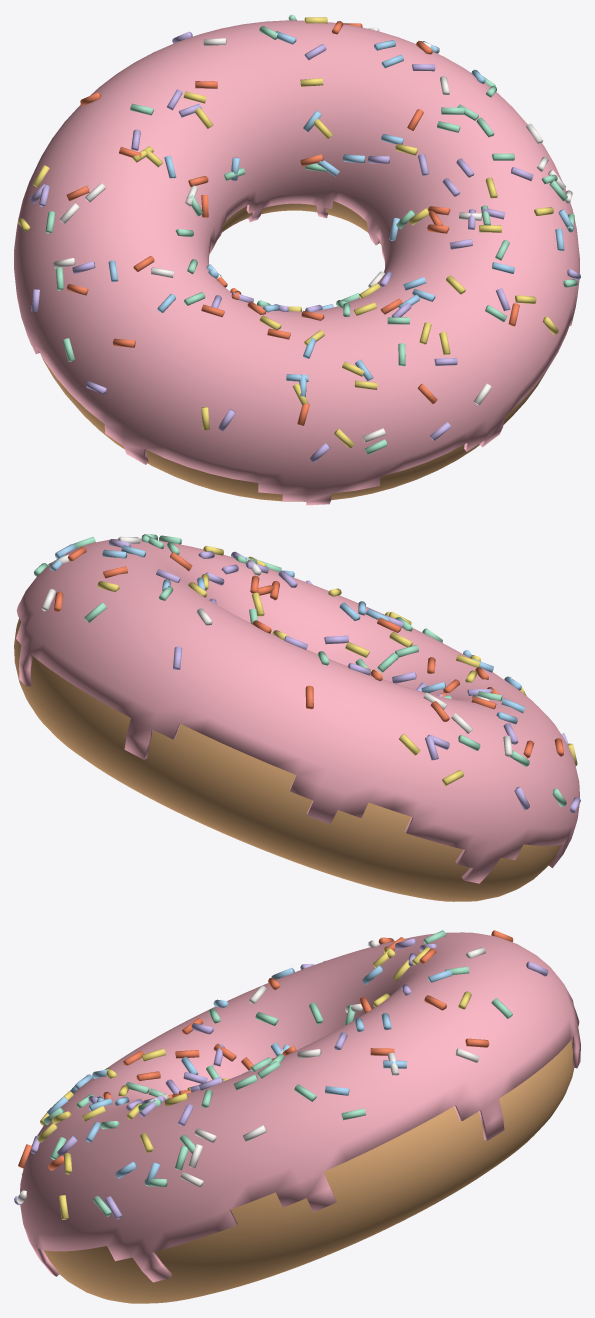
The model's file is donut_planet.glb.
3 renders of one model, top to bottom at view 1: azimuth 30°, elevation 25°; view 2: azimuth 150°, elevation 25°; view 3: azimuth 270°, elevation 25°, orthographic. The views are drawn at different scales.
Parts seen in each view (by area): view 1: donut_planet; view 2: donut_planet; view 3: donut_planet.
Boxes of the visible parts, box(x1,y1,x2,y2) form: donut_planet: box(14, 14, 580, 505); donut_planet: box(14, 534, 580, 901); donut_planet: box(14, 930, 580, 1303).
Bounding box in the file's own units: 6.03 × 3.9 × 5.81.
